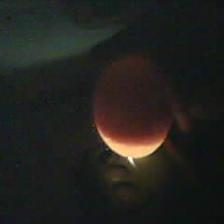fertile: (89, 47, 175, 163)
